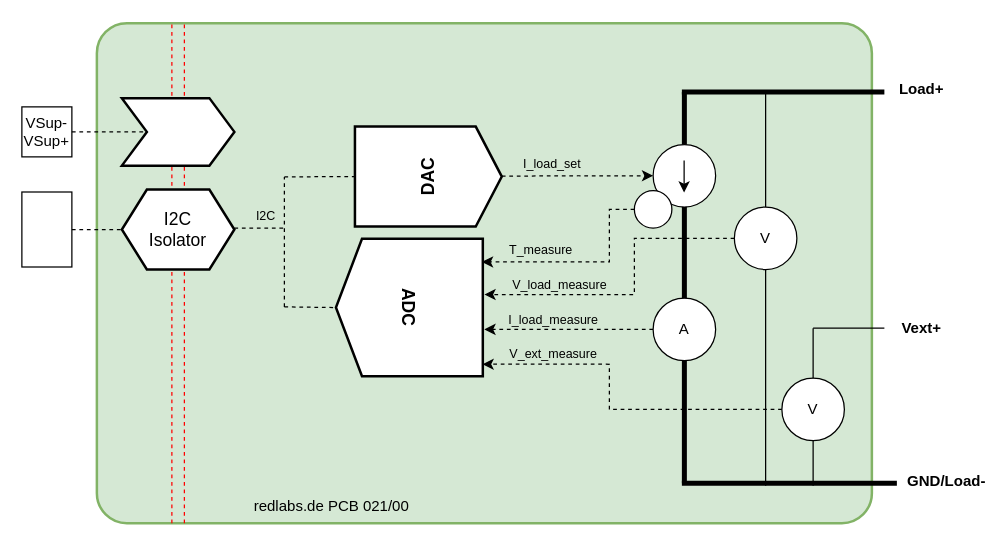
This 1008x546 diagram has some shape labels left out. The centre of each missing label's shape, as x and y in pixels:
5V Isolator: point (177, 131)
VDD+ SDA SCL VDD-: point (46, 229)
°C: point (652, 208)
